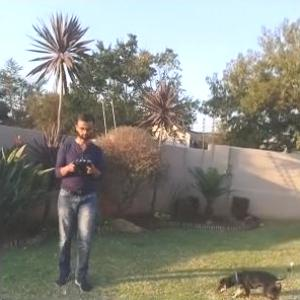follow: (51, 107, 105, 292)
null: (211, 258, 296, 299)
